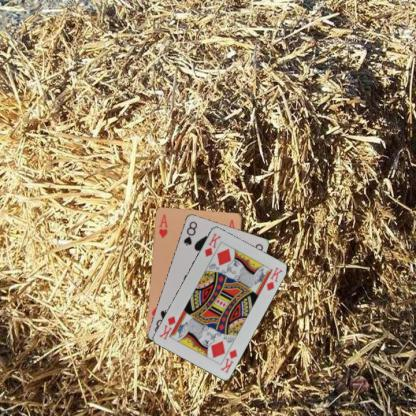8s: (181, 218, 198, 247)
Ah: (156, 212, 169, 239)
Kd: (201, 230, 222, 258), (218, 347, 238, 374)
